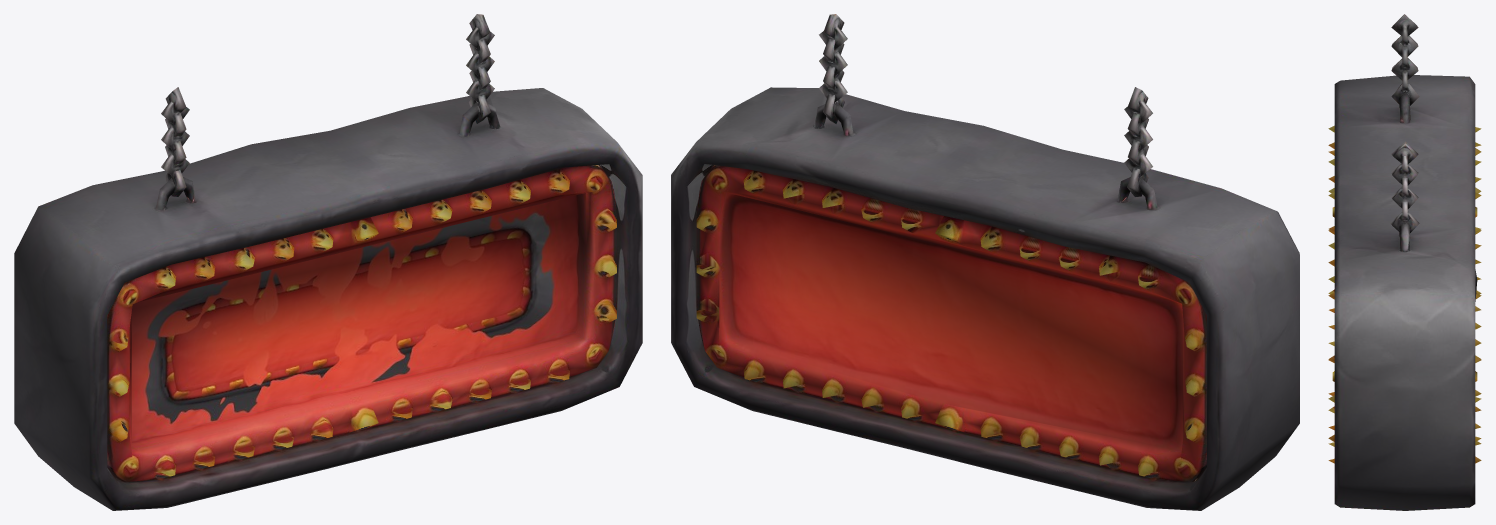
The model's file is tabela.glb.
3 renders of one model, left to right at view 1: azimuth 30°, elevation 25°; view 2: azimuth 150°, elevation 25°; view 3: azimuth 270°, elevation 25°, orthographic. The views are drawn at different scales.
Visible parts, largest first — view 1: tripo_node_ac55c143-1ac7-4438-8f41-c5ed2295a37a; view 2: tripo_node_ac55c143-1ac7-4438-8f41-c5ed2295a37a; view 3: tripo_node_ac55c143-1ac7-4438-8f41-c5ed2295a37a.
Boxes of the visible parts, x1=… form: tripo_node_ac55c143-1ac7-4438-8f41-c5ed2295a37a: x1=14, y1=14, x2=642, y2=510; tripo_node_ac55c143-1ac7-4438-8f41-c5ed2295a37a: x1=671, y1=14, x2=1299, y2=510; tripo_node_ac55c143-1ac7-4438-8f41-c5ed2295a37a: x1=1328, y1=14, x2=1481, y2=510.
Bounding box in the file's own units: 0.9778 × 0.6448 × 0.2698.
1 material, 1 textured.
